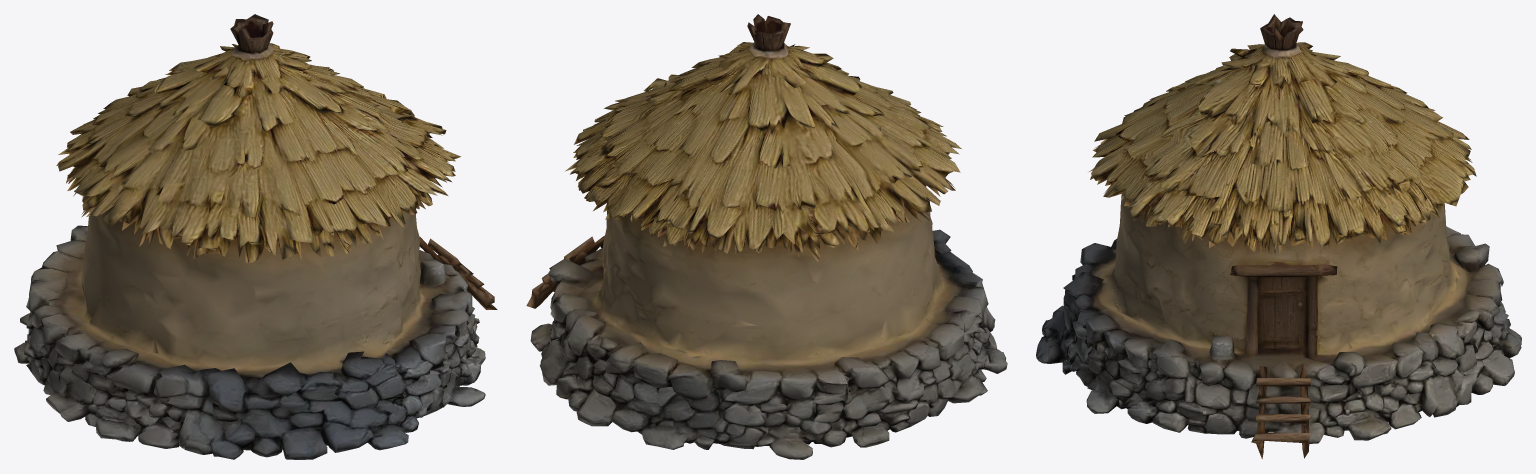
Rendered from v-granary.glb.
The picture shows the model from 3 angles, left to right: view 1: azimuth 30°, elevation 25°; view 2: azimuth 150°, elevation 25°; view 3: azimuth 270°, elevation 25°; orthographic projection. The views are drawn at different scales.
Parts seen in each view (by area): view 1: tripo_node_646a08fe-74fa-46b2-b9d4-5a897e534dac; view 2: tripo_node_646a08fe-74fa-46b2-b9d4-5a897e534dac; view 3: tripo_node_646a08fe-74fa-46b2-b9d4-5a897e534dac.
Part boxes in pixels (bbox=[...]): tripo_node_646a08fe-74fa-46b2-b9d4-5a897e534dac: bbox=[14, 14, 497, 459]; tripo_node_646a08fe-74fa-46b2-b9d4-5a897e534dac: bbox=[526, 14, 1007, 459]; tripo_node_646a08fe-74fa-46b2-b9d4-5a897e534dac: bbox=[1036, 14, 1521, 458].
Bounding box in the file's own units: 1 × 0.7432 × 0.9879.
Materials: 1 (1 with a texture image).
